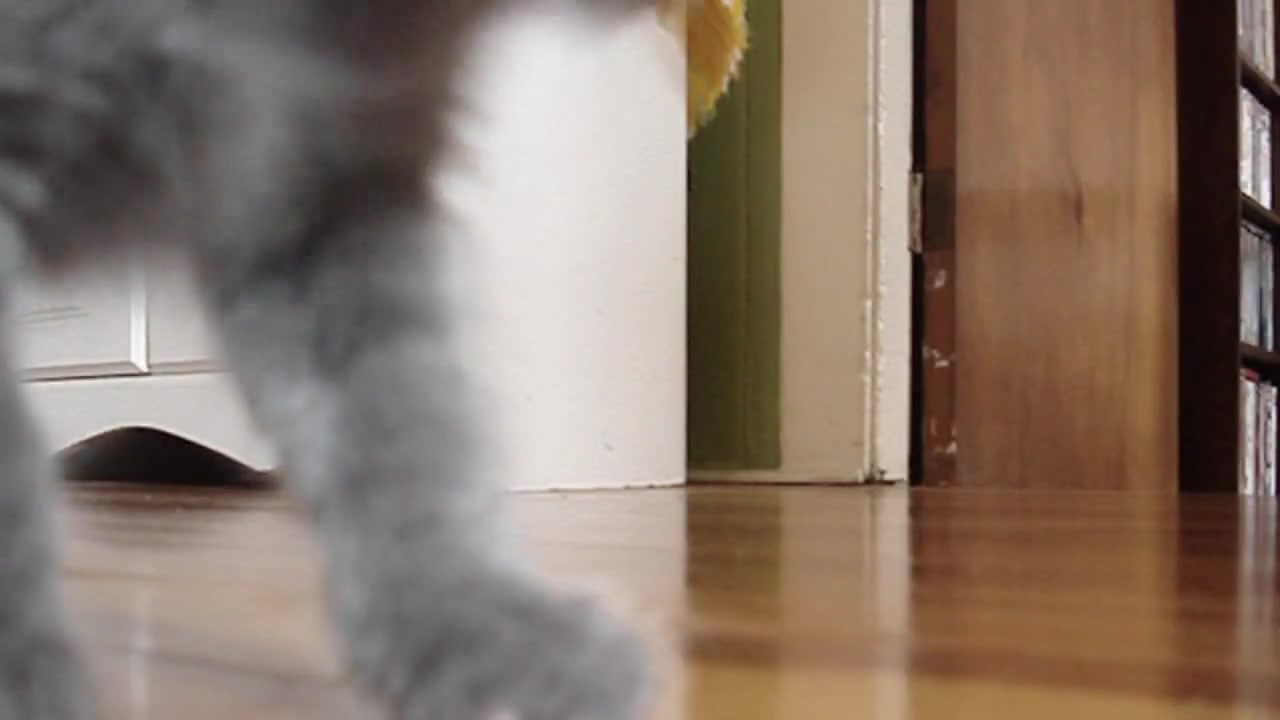cat: (1, 3, 631, 719)
